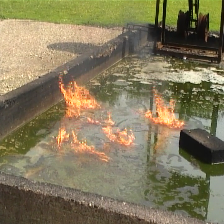fire_h: (58, 71, 116, 126), (145, 82, 185, 127), (69, 130, 108, 161), (102, 126, 136, 146)
fire_l: (57, 128, 69, 145)
